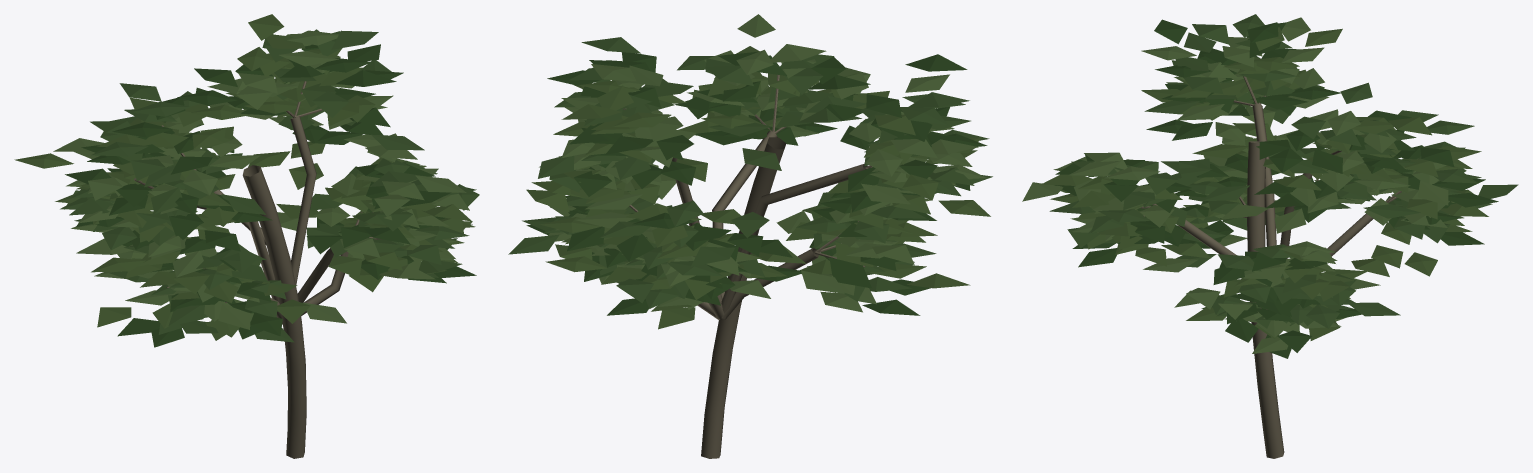
File: prop_tropical_tree_b_lod1.glb
3 renders of one model, left to right at view 1: azimuth 30°, elevation 25°; view 2: azimuth 150°, elevation 25°; view 3: azimuth 270°, elevation 25°, orthographic. The views are drawn at different scales.
Visible parts, largest first — view 1: base__art06_canopy_prop_tropical_tree_b, base__art06_weathered_bark; view 2: base__art06_canopy_prop_tropical_tree_b, base__art06_weathered_bark; view 3: base__art06_canopy_prop_tropical_tree_b, base__art06_weathered_bark.
Boxes of the visible parts, x1,y1,x2,y2 form: base__art06_canopy_prop_tropical_tree_b: (14,14,479,347); base__art06_weathered_bark: (134,81,381,458); base__art06_canopy_prop_tropical_tree_b: (508,14,992,329); base__art06_weathered_bark: (623,74,872,458); base__art06_canopy_prop_tropical_tree_b: (1022,14,1518,358); base__art06_weathered_bark: (1139,62,1401,458).
Size of the model in its own units: 16.16 by 14.57 by 17.81.
